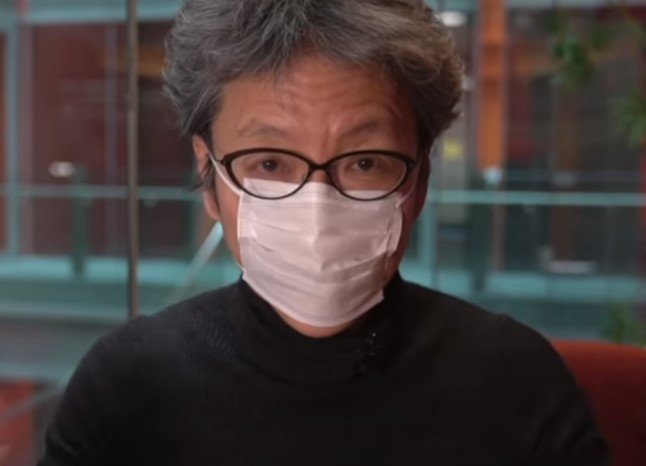face_with_mask: (191, 13, 429, 328)
